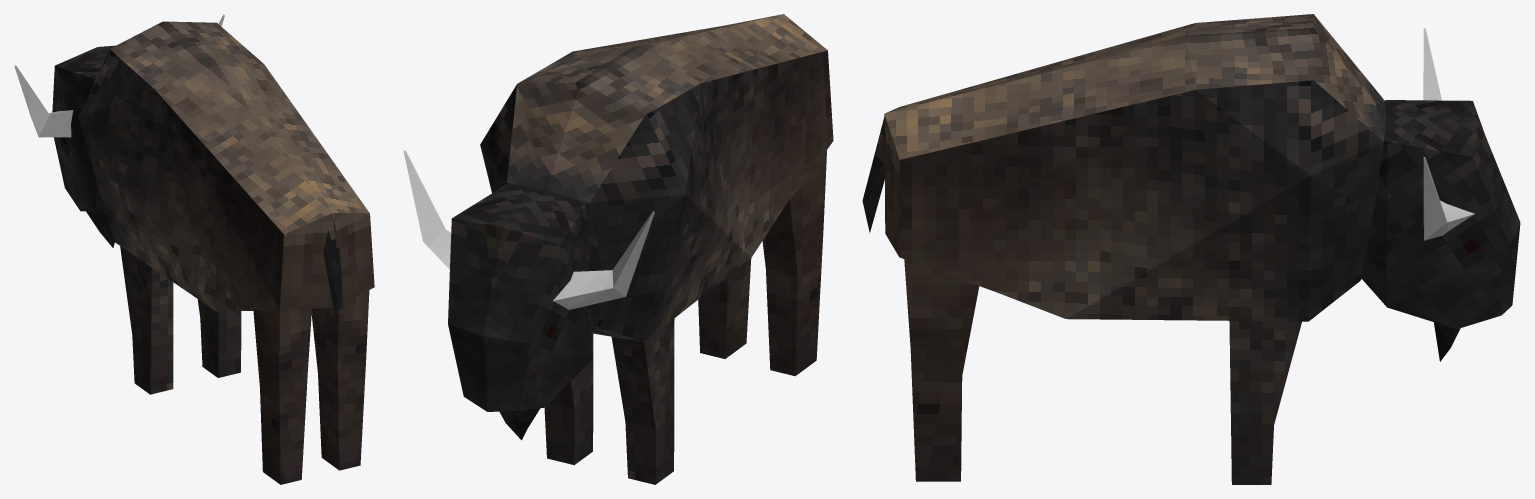
The model's file is Bison_Bison.glb.
The picture shows the model from 3 angles, left to right: view 1: azimuth 30°, elevation 25°; view 2: azimuth 150°, elevation 25°; view 3: azimuth 270°, elevation 25°; orthographic projection. The views are drawn at different scales.
Parts seen in each view (by area): view 1: Body, Leg3, Leg4, Head, Leg1, Leg2; view 2: Body, Head, Leg3, Leg1, Leg2, Leg4; view 3: Body, Head, Leg4, Leg2.
Boxes of the visible parts, x1,y1,x2,y2 form: Body: (78, 21, 374, 311); Leg3: (253, 308, 311, 484); Leg4: (311, 290, 369, 470); Head: (14, 14, 224, 247); Leg1: (120, 246, 173, 394); Leg2: (197, 299, 241, 377); Body: (480, 14, 833, 341); Head: (403, 150, 654, 440); Leg3: (762, 150, 826, 376); Leg1: (611, 318, 674, 484); Leg2: (544, 333, 593, 465); Leg4: (698, 258, 751, 358); Body: (862, 14, 1386, 321); Head: (1361, 28, 1520, 361); Leg4: (904, 259, 979, 481); Leg2: (1229, 321, 1301, 484).
Bounding box in the file's own units: 1.08 × 1.67 × 2.32.
1 material, 1 textured.
